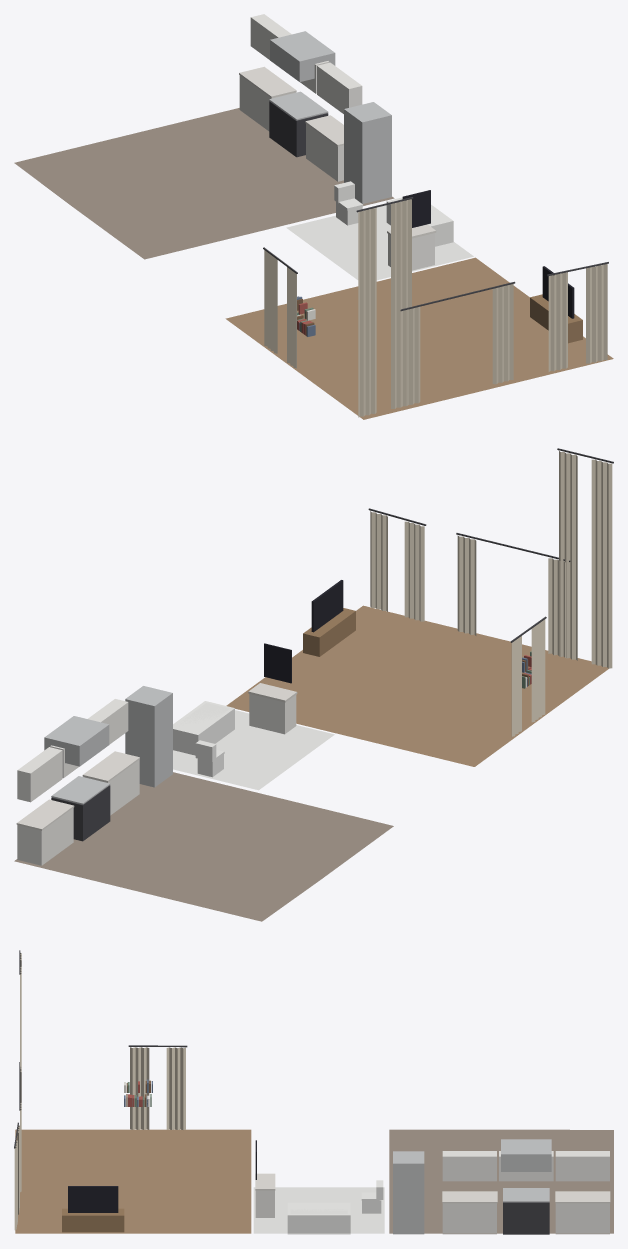
The model's file is fine-s1.glb.
The picture shows the model from 3 angles, top to bottom: view 1: azimuth 30°, elevation 25°; view 2: azimuth 150°, elevation 25°; view 3: azimuth 270°, elevation 25°; orthographic projection. The views are drawn at different scales.
Visible parts, largest first — view 1: soft-s1, range.000, fridge.000, counter-run.001, counter-run.000, vanity.000, kitchen-upper.002, tv-console.001, kitchen-upper.000, toilet.000, bathtub.000; view 2: soft-s1, range.000, fridge.000, vanity.000, counter-run.000, tv-console.001, bathtub.000, counter-run.001, kitchen-upper.000, kitchen-upper.002, toilet.000; view 3: soft-s1, range.000, tv-console.001, fridge.000, counter-run.001, counter-run.000, bathtub.000, kitchen-upper.000, kitchen-upper.002, vanity.000, kitchen-upper.001, toilet.000.
Boxes of the visible parts, x1,y1,x2,y2 form: soft-s1: (14,108,613,419); range.000: (269,31,335,157); fridge.000: (344,102,391,203); counter-run.001: (305,115,343,181); counter-run.000: (239,66,296,131); vanity.000: (387,190,436,270); kitchen-upper.002: (317,62,362,113); tv-console.001: (530,266,582,343); kitchen-upper.000: (250,14,291,59); toilet.000: (334,181,363,225); bathtub.000: (386,197,453,246); soft-s1: (14,448,613,921); range.000: (44,716,110,841); fridge.000: (125,686,172,787); vanity.000: (248,643,297,734); counter-run.000: (16,799,74,865); tv-console.001: (303,580,355,656); bathtub.000: (173,701,234,755); counter-run.001: (82,751,139,815); kitchen-upper.000: (17,747,62,802); kitchen-upper.002: (88,699,128,744); toilet.000: (195,740,224,777); soft-s1: (14,950,613,1233); range.000: (501,1139,551,1234); tv-console.001: (62,1186,124,1232); fridge.000: (393,1151,424,1234); counter-run.001: (442,1191,497,1234); counter-run.000: (555,1191,610,1234); bathtub.000: (287,1202,350,1234); kitchen-upper.000: (555,1151,609,1181); kitchen-upper.002: (442,1151,496,1181); vanity.000: (255,1140,275,1217); kitchen-upper.001: (499,1151,553,1181); toilet.000: (361,1180,383,1213).
Size of the model in its own units: 6.58 by 5.06 by 15.4.
